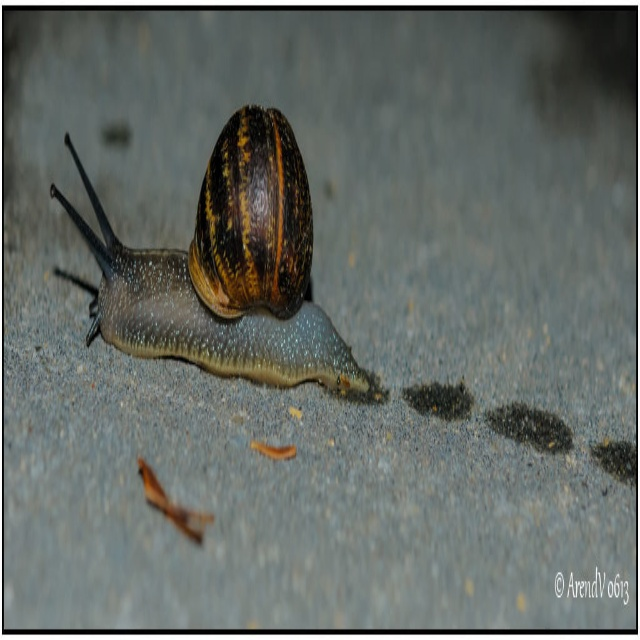Snail: (44, 98, 394, 400)
